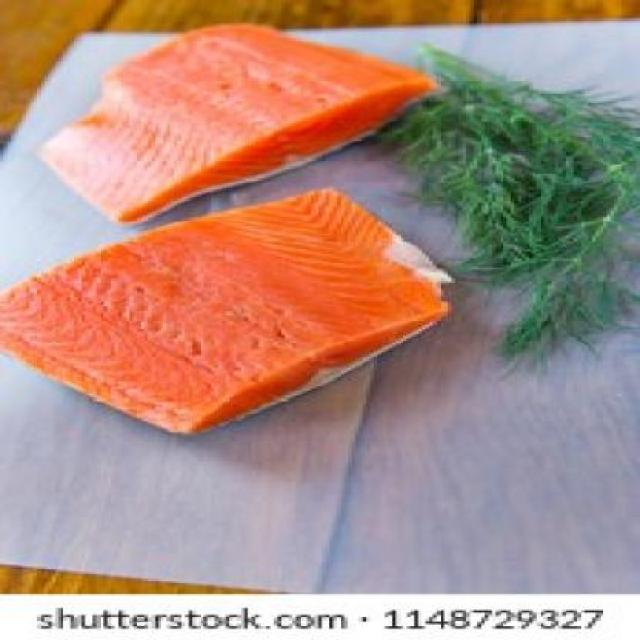salmon: (3, 192, 492, 440), (26, 19, 466, 233)
